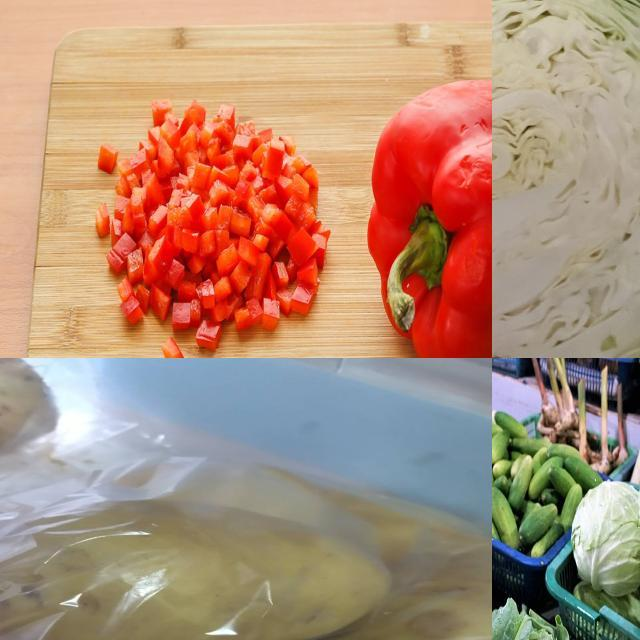bell_pepper: (368, 69, 493, 359)
cabbage: (493, 1, 640, 359), (575, 478, 640, 600)
cucumber: (493, 485, 519, 557), (494, 411, 530, 443), (551, 465, 581, 499)
potato: (97, 458, 493, 640), (1, 493, 392, 640), (1, 359, 80, 487)
